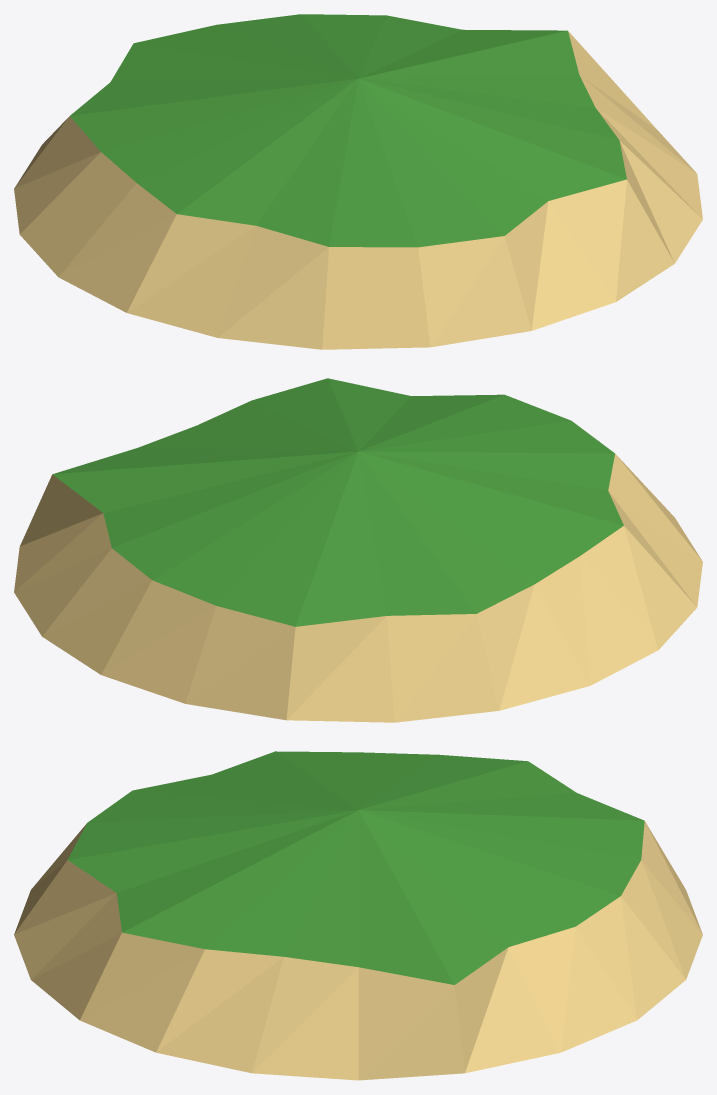
File: island5.obj
3 renders of one model, top to bottom at view 1: azimuth 30°, elevation 25°; view 2: azimuth 150°, elevation 25°; view 3: azimuth 270°, elevation 25°, orthographic.
Size of the model in its own units: 15 by 3 by 15.
